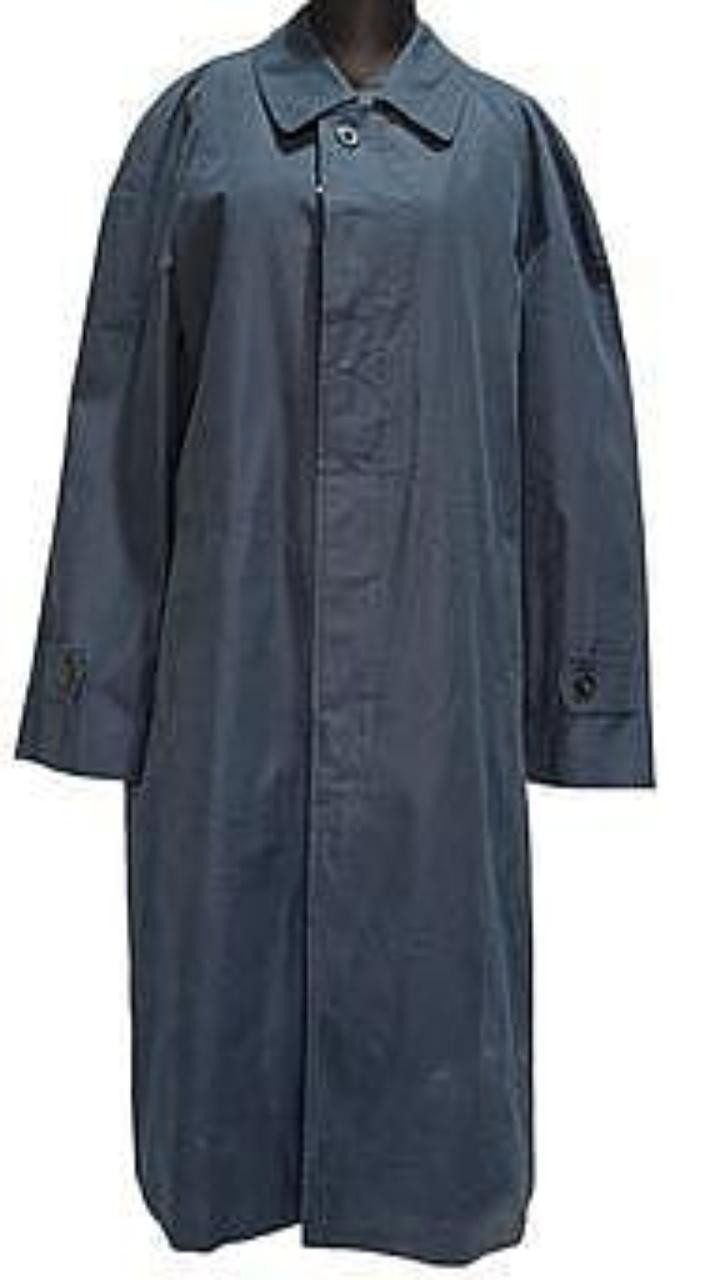Coat: (15, 5, 654, 1263)
